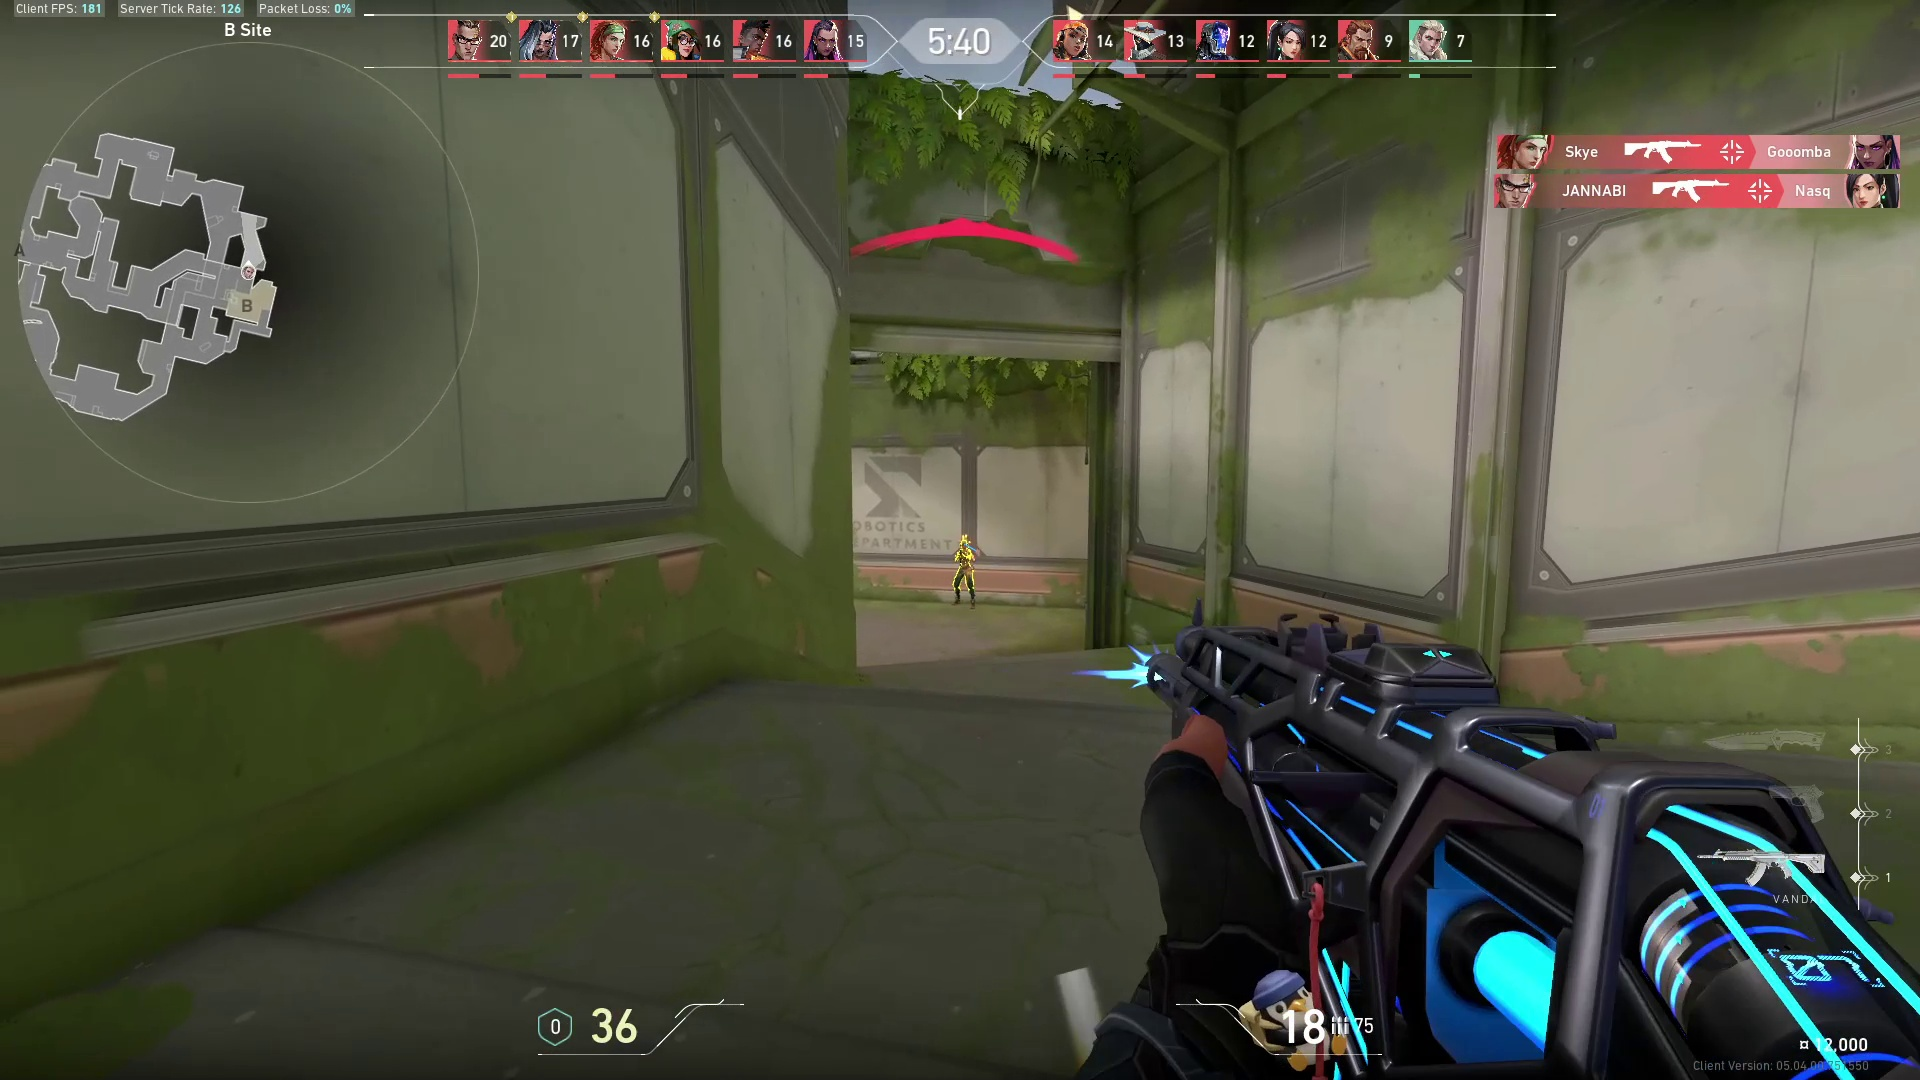enemy_body: (951, 551, 980, 612)
enemy_head: (957, 539, 971, 553)
